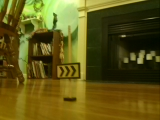right: (56, 64, 81, 78)
